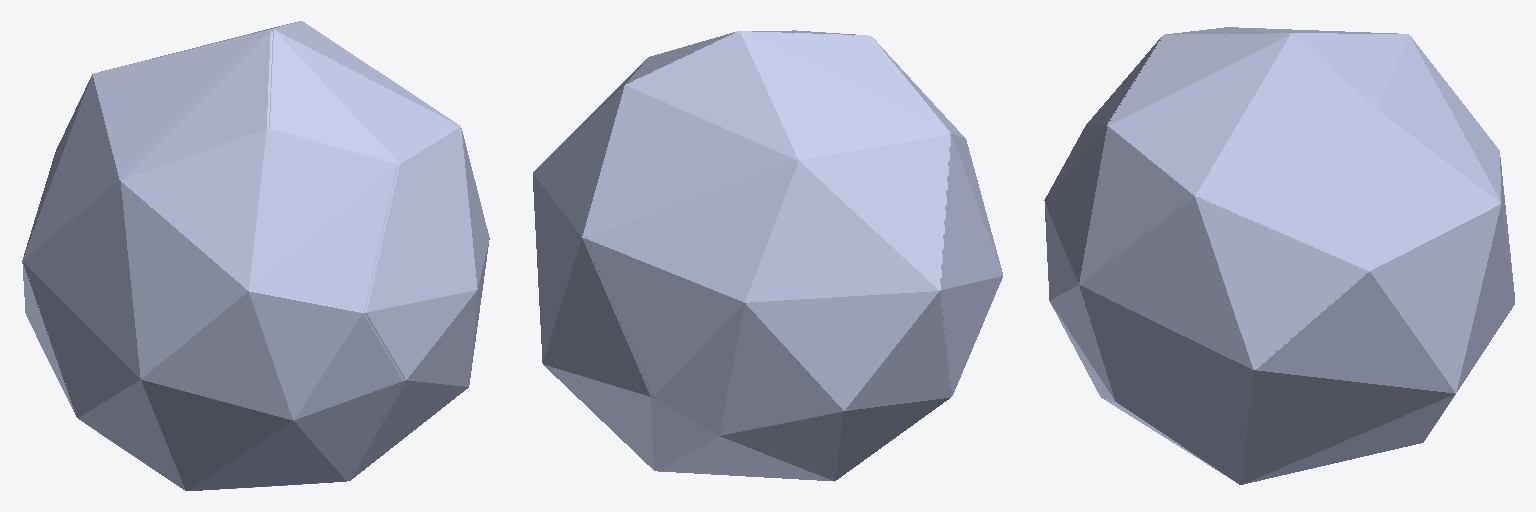
--- Facts derived from the render (not from the file) ---
3 views of the same robot in one strip: view 1: azimuth 30°, elevation 25°; view 2: azimuth 150°, elevation 25°; view 3: azimuth 270°, elevation 25° (orthographic).
Model husky with 25 links and 24 joints (16 revolute, 4 continuous, 4 fixed), rooted at Body, posed all joints at 0.
Links seen in each view (by area): view 1: foot_end_rr, foot_end_fr, foot_end_rl; view 2: foot_end_rl, foot_end_fl, foot_end_rr, foot_end_fr; view 3: foot_end_fr, foot_end_fl, foot_end_rl, foot_end_rr.
Link boxes in pixels (x1,y1,x2,y2): foot_end_rr: (23,30,403,490); foot_end_fr: (269,21,489,480); foot_end_rl: (22,23,290,416); foot_end_rl: (585,33,951,481); foot_end_fl: (533,32,795,470); foot_end_rr: (740,32,1002,395); foot_end_fr: (627,30,868,83); foot_end_fr: (1045,35,1375,484); foot_end_fl: (1197,35,1514,484); foot_end_rl: (1232,27,1514,294); foot_end_rr: (1044,27,1291,200).
Bounding box of the posed robot: 52.72 × 51.1 × 53.01 m (x, y, z).
Meshes: 22 distinct files referenced, 25 mesh visuals loaded (22 binary STL).

robot.urdf — husky:
<?xml version="1.0" encoding="utf-8"?>
<!-- This URDF was automatically created by SolidWorks to URDF Exporter! Originally created by Stephen Brawner ([email redacted]) 
     Commit Version: 1.5.1-0-g916b5db  Build Version: 1.5.7152.31018
     For more information, please see http://wiki.ros.org/sw_urdf_sporter -->
<robot
  name="husky">
  <link
    name="Body">
    <inertial>
      <origin
        xyz="0.0211071592923378 0 -0.0415232736197185"
        rpy="0 0 0" />
      <mass
        value="0.82234829634822" />
      <inertia
        ixx="0.000459915991926448"
        ixy="8.15944830666836E-13"
        ixz="1.96417515898066E-05"
        iyy="0.000544483864173317"
        iyz="3.07545900066903E-08"
        izz="0.000323732011489045" />
    </inertial>
    <visual>
      <origin
        xyz="0 0 0"
        rpy="0 0 0" />
      <geometry>
        <mesh
          filename="package://husky/meshes/Body.STL" />
      </geometry>
      <material
        name="">
        <color
          rgba="0.792156862745098 0.819607843137255 0.933333333333333 1" />
      </material>
    </visual>
    <collision>
      <origin
        xyz="0 0 0"
        rpy="0 0 0" />
      <geometry>
        <mesh
          filename="package://husky/meshes/Body.STL" />
      </geometry>
    </collision>
  </link>
  <link
    name="hip_rl">
    <inertial>
      <origin
        xyz="-0.004454141 0.02824932 0"
        rpy="0 0 0" />
      <mass
        value="0.0359443182305763" />
      <inertia
        ixx="2.70762134663166E-05"
        ixy="2.3931924096827E-06"
        ixz="5.09943156182198E-09"
        iyy="9.43684872810118E-06"
        iyz="-7.37841303905059E-08"
        izz="2.44222433424521E-05" />
    </inertial>
    <visual>
      <origin
        xyz="0 0 0"
        rpy="0 0 0" />
      <geometry>
        <mesh
          filename="package://husky/meshes/hip_rl.STL" />
      </geometry>
      <material
        name="">
        <color
          rgba="0.792156862745098 0.819607843137255 0.933333333333333 1" />
      </material>
    </visual>
    <collision>
      <origin
        xyz="0 0 0"
        rpy="0 0 0" />
      <geometry>
        <mesh
          filename="package://husky/meshes/hip_rl.STL" />
      </geometry>
    </collision>
  </link>
  <joint
    name="hip_rl_f"
    type="revolute">
    <origin
      xyz="-0.19745 0.045 0"
      rpy="0 0 0" />
    <parent
      link="Body" />
    <child
      link="hip_rl" />
    <axis
      xyz="1 0 0" />
    <limit
      lower="-3.14"
      upper="3.14"
      effort="1000"
      velocity="1000" />
  </joint>
  <link
    name="femur_rl">
    <inertial>
      <origin
        xyz="0 0.0361117637 -0.08282914"
        rpy="0 0 0" />
      <mass
        value="0.152097608878586" />
      <inertia
        ixx="4.39271248910885E-05"
        ixy="6.91552814530331E-10"
        ixz="-1.83185228614627E-08"
        iyy="6.21094780413375E-05"
        iyz="4.58760753059716E-10"
        izz="2.75629448518317E-05" />
    </inertial>
    <visual>
      <origin
        xyz="0 0 0"
        rpy="0 0 0" />
      <geometry>
        <mesh
          filename="package://husky/meshes/femur_rl.STL" />
      </geometry>
      <material
        name="">
        <color
          rgba="0.792156862745098 0.819607843137255 0.933333333333333 1" />
      </material>
    </visual>
    <collision>
      <origin
        xyz="0 0 0"
        rpy="0 0 0" />
      <geometry>
        <mesh
          filename="package://husky/meshes/femur_rl.STL" />
      </geometry>
    </collision>
  </link>
  <joint
    name="hip_rl_s"
    type="revolute">
    <origin
      xyz="-0.007 0.053 0"
      rpy="0 0 0" />
    <parent
      link="hip_rl" />
    <child
      link="femur_rl" />
    <axis
      xyz="0 1 0" />
    <limit
      lower="-3.14"
      upper="3.14"
      effort="1000"
      velocity="1000" />
  </joint>
  <link
    name="tibia_rl">
    <inertial>
      <origin
        xyz="-0.1057537 0.003983084 0"
        rpy="0 0 0" />
      <mass
        value="0.0386281065299358" />
      <inertia
        ixx="7.12522465859726E-06"
        ixy="1.09307273712402E-06"
        ixz="-8.00478110520346E-10"
        iyy="3.48397210023154E-05"
        iyz="-1.63865062956288E-09"
        izz="2.98656007512978E-05" />
    </inertial>
    <visual>
      <origin
        xyz="0 0 0"
        rpy="0 0 0" />
      <geometry>
        <mesh
          filename="package://husky/meshes/tibia_rl.STL" />
      </geometry>
      <material
        name="">
        <color
          rgba="0.792156862745098 0.819607843137255 0.933333333333333 1" />
      </material>
    </visual>
    <collision>
      <origin
        xyz="0 0 0"
        rpy="0 0 0" />
      <geometry>
        <mesh
          filename="package://husky/meshes/tibia_rl.STL" />
      </geometry>
    </collision>
  </link>
  <joint
    name="knee_rl"
    type="revolute">
    <origin
      xyz="0 0 -0.158"
      rpy="0 0 0" />
    <parent
      link="femur_rl" />
    <child
      link="tibia_rl" />
    <axis
      xyz="0 1 0" />
    <limit
      lower="-3.14"
      upper="3.14"
      effort="1000"
      velocity="1000" />
  </joint>
  <link
    name="tarsus_rl">
    <inertial>
      <origin
        xyz="0 0 -0.054555"
        rpy="0 0 0" />
      <mass
        value="0.182843362911726" />
      <inertia
        ixx="0.000120755566797708"
        ixy="-8.51394103095551E-12"
        ixz="-6.94776948529209E-13"
        iyy="0.000116988513204247"
        iyz="3.77436628974131E-12"
        izz="2.51325482776806E-05" />
    </inertial>
    <visual>
      <origin
        xyz="0 0 0"
        rpy="0 0 0" />
      <geometry>
        <mesh
          filename="package://husky/meshes/tarsus_rl.STL" />
      </geometry>
      <material
        name="">
        <color
          rgba="0.792156862745098 0.819607843137255 0.933333333333333 1" />
      </material>
    </visual>
    <collision>
      <origin
        xyz="0 0 0"
        rpy="0 0 0" />
      <geometry>
        <mesh
          filename="package://husky/meshes/tarsus_rl.STL" />
      </geometry>
    </collision>
  </link>
  <joint
    name="ankle_rl"
    type="revolute">
    <origin
      xyz="-0.333 0.0075 0"
      rpy="0 0 0" />
    <parent
      link="tibia_rl" />
    <child
      link="tarsus_rl" />
    <axis
      xyz="0 1 0" />
    <limit
      lower="-3.14"
      upper="3.14"
      effort="1000"
      velocity="1000" />
  </joint>
  <link
    name="link_rl">
    <inertial>
      <origin
        xyz="0.15598 0 0"
        rpy="0 0 0" />
      <mass
        value="0.022231885605909" />
      <inertia
        ixx="9.87556052587583E-07"
        ixy="3.81108638889871E-08"
        ixz="-1.25113408522424E-13"
        iyy="2.53724963631523E-05"
        iyz="-2.76558475727964E-14"
        izz="2.49180597934993E-05" />
    </inertial>
    <visual>
      <origin
        xyz="0 0 0"
        rpy="0 0 0" />
      <geometry>
        <mesh
          filename="package://husky/meshes/link_rl.STL" />
      </geometry>
      <material
        name="">
        <color
          rgba="0.792156862745098 0.819607843137255 0.933333333333333 1" />
      </material>
    </visual>
    <collision>
      <origin
        xyz="0 0 0"
        rpy="0 0 0" />
      <geometry>
        <mesh
          filename="package://husky/meshes/link_rl.STL" />
      </geometry>
    </collision>
  </link>
  <joint
    name="link_rl"
    type="continuous">
    <origin
      xyz="0 0 0.06"
      rpy="0 0 0" />
    <parent
      link="tarsus_rl" />
    <child
      link="link_rl" />
    <axis
      xyz="0 1 0" />
  </joint>
<link
    name="foot_end_rl">
	<inertial>
      <origin
        xyz="0 0 0"
        rpy="0 0 0" />
      <mass
        value="0.0001" />
	<inertia
        ixx="0"
        ixy="0"
        ixz="0"
        iyy="0"
        iyz="0"
        izz="0" />
	</inertial>
    <visual>
      <origin
        xyz="0 0 0"
        rpy="0 0 0" />
      <geometry>
        <mesh
          filename="package://husky/meshes/footend.STL" />
      </geometry>
      <material
        name="">
        <color
          rgba="0.792156862745098 0.819607843137255 0.933333333333333 1" />
      </material>
    </visual>
</link>
  <joint
    name="end_rl"
    type="fixed">
    <origin
      xyz="0 0 -0.12"
      rpy="0 0 0" />
    <parent
      link="tarsus_rl" />
    <child
      link="foot_end_rl" />
  </joint>
  <link
    name="hip_rr">
    <inertial>
      <origin
        xyz="-0.004454141 -0.02824932 0"
        rpy="0 0 0" />
      <mass
        value="0.0359443183140278" />
      <inertia
        ixx="2.70762137070002E-05"
        ixy="-2.39319246374955E-06"
        ixz="-5.09946868769336E-09"
        iyy="9.43684882222105E-06"
        iyz="-7.37842997255125E-08"
        izz="2.4422243349908E-05" />
    </inertial>
    <visual>
      <origin
        xyz="0 0 0"
        rpy="0 0 0" />
      <geometry>
        <mesh
          filename="package://husky/meshes/hip_rr.STL" />
      </geometry>
      <material
        name="">
        <color
          rgba="0.792156862745098 0.819607843137255 0.933333333333333 1" />
      </material>
    </visual>
    <collision>
      <origin
        xyz="0 0 0"
        rpy="0 0 0" />
      <geometry>
        <mesh
          filename="package://husky/meshes/hip_rr.STL" />
      </geometry>
    </collision>
  </link>
  <joint
    name="hip_rr_f"
    type="revolute">
    <origin
      xyz="-0.19745 -0.045 0"
      rpy="0 0 0" />
    <parent
      link="Body" />
    <child
      link="hip_rr" />
    <axis
      xyz="1 0 0" />
    <limit
      lower="-3.14"
      upper="3.14"
      effort="1000"
      velocity="1000" />
  </joint>
  <link
    name="femur_rr">
    <inertial>
      <origin
        xyz="0 -0.0361117637 -0.08282914"
        rpy="0 0 0" />
      <mass
        value="0.152097608703823" />
      <inertia
        ixx="4.39271248513547E-05"
        ixy="6.91543149797179E-10"
        ixz="1.83187127044182E-08"
        iyy="6.21094779218342E-05"
        iyz="-4.58777022902181E-10"
        izz="2.75629447730204E-05" />
    </inertial>
    <visual>
      <origin
        xyz="0 0 0"
        rpy="0 0 0" />
      <geometry>
        <mesh
          filename="package://husky/meshes/femur_rr.STL" />
      </geometry>
      <material
        name="">
        <color
          rgba="0.792156862745098 0.819607843137255 0.933333333333333 1" />
      </material>
    </visual>
    <collision>
      <origin
        xyz="0 0 0"
        rpy="0 0 0" />
      <geometry>
        <mesh
          filename="package://husky/meshes/femur_rr.STL" />
      </geometry>
    </collision>
  </link>
  <joint
    name="hip_rr_s"
    type="revolute">
    <origin
      xyz="-0.007 -0.053 0"
      rpy="0 0 0" />
    <parent
      link="hip_rr" />
    <child
      link="femur_rr" />
    <axis
      xyz="0 1 0" />
    <limit
      lower="-3.14"
      upper="3.14"
      effort="1000"
      velocity="1000" />
  </joint>
  <link
    name="tibia_rr">
    <inertial>
      <origin
        xyz="-0.1057537 -0.003983084 0"
        rpy="0 0 0" />
      <mass
        value="0.0386281062345205" />
      <inertia
        ixx="7.1252246351902E-06"
        ixy="-1.09307271506804E-06"
        ixz="8.00472745726573E-10"
        iyy="3.48397208700752E-05"
        iyz="-1.63864675282453E-09"
        izz="2.98656006318311E-05" />
    </inertial>
    <visual>
      <origin
        xyz="0 0 0"
        rpy="0 0 0" />
      <geometry>
        <mesh
          filename="package://husky/meshes/tibia_rr.STL" />
      </geometry>
      <material
        name="">
        <color
          rgba="0.792156862745098 0.819607843137255 0.933333333333333 1" />
      </material>
    </visual>
    <collision>
      <origin
        xyz="0 0 0"
        rpy="0 0 0" />
      <geometry>
        <mesh
          filename="package://husky/meshes/tibia_rr.STL" />
      </geometry>
    </collision>
  </link>
  <joint
    name="knee_rr"
    type="revolute">
    <origin
      xyz="0 0 -0.158"
      rpy="0 0 0" />
    <parent
      link="femur_rr" />
    <child
      link="tibia_rr" />
    <axis
      xyz="0 1 0" />
    <limit
      lower="-3.14"
      upper="3.14"
      effort="1000"
      velocity="1000" />
  </joint>
  <link
    name="tarsus_rr">
    <inertial>
      <origin
        xyz="0 0 -0.054555"
        rpy="0 0 0" />
      <mass
        value="0.182843362911726" />
      <inertia
        ixx="0.000120755566797708"
        ixy="-8.51394103298896E-12"
        ixz="6.94777500870091E-13"
        iyy="0.000116988513204247"
        iyz="-3.77436541860114E-12"
        izz="2.51325482776806E-05" />
    </inertial>
    <visual>
      <origin
        xyz="0 0 0"
        rpy="0 0 0" />
      <geometry>
        <mesh
          filename="package://husky/meshes/tarsus_rr.STL" />
      </geometry>
      <material
        name="">
        <color
          rgba="0.792156862745098 0.819607843137255 0.933333333333333 1" />
      </material>
    </visual>
    <collision>
      <origin
        xyz="0 0 0"
        rpy="0 0 0" />
      <geometry>
        <mesh
          filename="package://husky/meshes/tarsus_rr.STL" />
      </geometry>
    </collision>
  </link>
  <joint
    name="ankle_rr"
    type="revolute">
    <origin
      xyz="-0.333 -0.0075 0"
      rpy="0 0 0" />
    <parent
      link="tibia_rr" />
    <child
      link="tarsus_rr" />
    <axis
      xyz="0 1 0" />
    <limit
      lower="-3.14"
      upper="3.14"
      effort="1000"
      velocity="1000" />
  </joint>
  <link
    name="link_rr">
    <inertial>
      <origin
        xyz="0.15598 0 0"
        rpy="0 0 0" />
      <mass
        value="0.0222318856387224" />
      <inertia
        ixx="9.87556053074512E-07"
        ixy="-3.81108638891084E-08"
        ixz="1.25321029989709E-13"
        iyy="2.53724963632346E-05"
        iyz="-2.74003733997187E-14"
        izz="2.4918059793518E-05" />
    </inertial>
    <visual>
      <origin
        xyz="0 0 0"
        rpy="0 0 0" />
      <geometry>
        <mesh
          filename="package://husky/meshes/link_rr.STL" />
      </geometry>
      <material
        name="">
        <color
          rgba="0.792156862745098 0.819607843137255 0.933333333333333 1" />
      </material>
    </visual>
    <collision>
      <origin
        xyz="0 0 0"
        rpy="0 0 0" />
      <geometry>
        <mesh
          filename="package://husky/meshes/link_rr.STL" />
      </geometry>
    </collision>
  </link>
  <joint
    name="link_rr"
    type="continuous">
    <origin
      xyz="0 0 0.06"
      rpy="0 0 0" />
    <parent
      link="tarsus_rr" />
    <child
      link="link_rr" />
    <axis
      xyz="0 1 0" />
  </joint>
<link
    name="foot_end_rr">
	<inertial>
      <origin
        xyz="0 0 0"
        rpy="0 0 0" />
      <mass
        value="0.0001" />
	<inertia
        ixx="0"
        ixy="0"
        ixz="0"
        iyy="0"
        iyz="0"
        izz="0" />
	</inertial>
    <visual>
      <origin
        xyz="0 0 0"
        rpy="0 0 0" />
      <geometry>
        <mesh
          filename="package://husky/meshes/footend.STL" />
      </geometry>
      <material
        name="">
        <color
          rgba="0.792156862745098 0.819607843137255 0.933333333333333 1" />
      </material>
    </visual>
</link>
  <joint
    name="end_rr"
    type="fixed">
    <origin
      xyz="0 0 -0.12"
      rpy="0 0 0" />
    <parent
      link="tarsus_rr" />
    <child
      link="foot_end_rr" />
  </joint>
  <link
    name="hip_fl">
    <inertial>
      <origin
        xyz="-0.004454141 0.02824932 0"
        rpy="0 0 0" />
      <mass
        value="0.0359443185115185" />
      <inertia
        ixx="2.70762138492206E-05"
        ixy="2.39319249507143E-06"
        ixz="5.09944659882223E-09"
        iyy="9.43684894485697E-06"
        iyz="-7.37842386043371E-08"
        izz="2.44222434072564E-05" />
    </inertial>
    <visual>
      <origin
        xyz="0 0 0"
        rpy="0 0 0" />
      <geometry>
        <mesh
          filename="package://husky/meshes/hip_fl.STL" />
      </geometry>
      <material
        name="">
        <color
          rgba="0.792156862745098 0.819607843137255 0.933333333333333 1" />
      </material>
    </visual>
    <collision>
      <origin
        xyz="0 0 0"
        rpy="0 0 0" />
      <geometry>
        <mesh
          filename="package://husky/meshes/hip_fl.STL" />
      </geometry>
    </collision>
  </link>
  <joint
    name="hip_fl_f"
    type="revolute">
    <origin
      xyz="0.19745 0.045 0"
      rpy="0 0 0" />
    <parent
      link="Body" />
    <child
      link="hip_fl" />
    <axis
      xyz="1 0 0" />
    <limit
      lower="-3.14"
      upper="3.14"
      effort="1000"
      velocity="1000" />
  </joint>
  <link
    name="femur_fl">
    <inertial>
      <origin
        xyz="0 0.0361117637 -0.08282914"
        rpy="0 0 0" />
      <mass
        value="0.152097609273322" />
      <inertia
        ixx="4.39271251028734E-05"
        ixy="6.91540064901458E-10"
        ixz="-1.83184904386034E-08"
        iyy="6.21094782699363E-05"
        iyz="4.58746027892432E-10"
        izz="2.75629448679641E-05" />
    </inertial>
    <visual>
      <origin
        xyz="0 0 0"
        rpy="0 0 0" />
      <geometry>
        <mesh
          filename="package://husky/meshes/femur_fl.STL" />
      </geometry>
      <material
        name="">
        <color
          rgba="0.792156862745098 0.819607843137255 0.933333333333333 1" />
      </material>
    </visual>
    <collision>
      <origin
        xyz="0 0 0"
        rpy="0 0 0" />
      <geometry>
        <mesh
          filename="package://husky/meshes/femur_fl.STL" />
      </geometry>
    </collision>
  </link>
  <joint
    name="hip_fl_s"
    type="revolute">
    <origin
      xyz="-0.007 0.053 0"
      rpy="0 0 0" />
    <parent
      link="hip_fl" />
    <child
      link="femur_fl" />
    <axis
      xyz="0 1 0" />
    <limit
      lower="-3.14"
      upper="3.14"
      effort="1000"
      velocity="1000" />
  </joint>
  <link
    name="tibia_fl">
    <inertial>
      <origin
        xyz="-0.1057537 0.003983084 0"
        rpy="0 0 0" />
      <mass
        value="0.0386281076645603" />
      <inertia
        ixx="7.12522522586293E-06"
        ixy="1.0930728048501E-06"
        ixz="-8.00870067195263E-10"
        iyy="3.4839722028018E-05"
        iyz="-1.6386268554641E-09"
        izz="2.98656012518756E-05" />
    </inertial>
    <visual>
      <origin
        xyz="0 0 0"
        rpy="0 0 0" />
      <geometry>
        <mesh
          filename="package://husky/meshes/tibia_fl.STL" />
      </geometry>
      <material
        name="">
        <color
          rgba="0.792156862745098 0.819607843137255 0.933333333333333 1" />
      </material>
    </visual>
    <collision>
      <origin
        xyz="0 0 0"
        rpy="0 0 0" />
      <geometry>
        <mesh
          filename="package://husky/meshes/tibia_fl.STL" />
      </geometry>
    </collision>
  </link>
  <joint
    name="knee_fl"
    type="revolute">
    <origin
      xyz="0 0 -0.158"
      rpy="0 0 0" />
    <parent
      link="femur_fl" />
    <child
      link="tibia_fl" />
    <axis
      xyz="0 1 0" />
    <limit
      lower="-3.14"
      upper="3.14"
      effort="1000"
      velocity="1000" />
  </joint>
  <link
    name="tarsus_fl">
    <inertial>
      <origin
        xyz="0 0 -0.054555"
        rpy="0 0 0" />
      <mass
        value="0.182843362911726" />
      <inertia
        ixx="0.000120755566797708"
        ixy="-8.51394104017069E-12"
        ixz="6.94777373490634E-13"
        iyy="0.000116988513204247"
        iyz="-3.77436543268781E-12"
        izz="2.51325482776806E-05" />
    </inertial>
    <visual>
      <origin
        xyz="0 0 0"
        rpy="0 0 0" />
      <geometry>
        <mesh
          filename="package://husky/meshes/tarsus_fl.STL" />
      </geometry>
      <material
        name="">
        <color
          rgba="0.792156862745098 0.819607843137255 0.933333333333333 1" />
      </material>
    </visual>
    <collision>
      <origin
        xyz="0 0 0"
        rpy="0 0 0" />
      <geometry>
        <mesh
          filename="package://husky/meshes/tarsus_fl.STL" />
      </geometry>
    </collision>
  </link>
  <joint
    name="ankle_fl"
    type="revolute">
    <origin
      xyz="-0.333 0.0075 0"
      rpy="0 0 0" />
    <parent
      link="tibia_fl" />
    <child
      link="tarsus_fl" />
    <axis
      xyz="0 1 0" />
    <limit
      lower="-3.14"
      upper="3.14"
      effort="1000"
      velocity="1000" />
  </joint>
  <link
    name="link_fl">
    <inertial>
      <origin
        xyz="0.15598 0 0"
        rpy="0 0 0" />
      <mass
        value="0.0222318856059" />
      <inertia
        ixx="9.87556052587465E-07"
        ixy="3.81108638889694E-08"
        ixz="-1.25321108906669E-13"
        iyy="2.53724963631525E-05"
        iyz="-2.76554512146632E-14"
        izz="2.49180597934994E-05" />
    </inertial>
    <visual>
      <origin
        xyz="0 0 0"
        rpy="0 0 0" />
      <geometry>
        <mesh
          filename="package://husky/meshes/link_fl.STL" />
      </geometry>
      <material
        name="">
        <color
          rgba="0.792156862745098 0.819607843137255 0.933333333333333 1" />
      </material>
    </visual>
    <collision>
      <origin
        xyz="0 0 0"
        rpy="0 0 0" />
      <geometry>
        <mesh
          filename="package://husky/meshes/link_fl.STL" />
      </geometry>
    </collision>
  </link>
  <joint
    name="link_fl"
    type="continuous">
    <origin
      xyz="0 0 0.06"
      rpy="0 0 0" />
    <parent
      link="tarsus_fl" />
    <child
      link="link_fl" />
    <axis
      xyz="0 1 0" />
  </joint>
<link
    name="foot_end_fl">
	<inertial>
      <origin
        xyz="0 0 0"
        rpy="0 0 0" />
      <mass
        value="0.0001" />
	<inertia
        ixx="0"
        ixy="0"
        ixz="0"
        iyy="0"
        iyz="0"
        izz="0" />
	</inertial>
    <visual>
      <origin
        xyz="0 0 0"
        rpy="0 0 0" />
      <geometry>
        <mesh
          filename="package://husky/meshes/footend.STL" />
      </geometry>
      <material
        name="">
        <color
          rgba="0.792156862745098 0.819607843137255 0.933333333333333 1" />
      </material>
    </visual>
</link>
  <joint
    name="end_fl"
    type="fixed">
    <origin
      xyz="0 0 -0.12"
      rpy="0 0 0" />
    <parent
      link="tarsus_fl" />
    <child
      link="foot_end_fl" />
  </joint>
  <link
    name="hip_fr">
    <inertial>
      <origin
        xyz="-0.004454141 -0.02824932 0"
        rpy="0 0 0" />
      <mass
        value="0.0359443185115185" />
      <inertia
        ixx="2.63878354499132E-05"
        ixy="-2.33234864755538E-06"
        ixz="-4.96980651907523E-09"
        iyy="9.19692903297758E-06"
        iyz="-7.19084532938084E-08"
        izz="2.380133902073E-05" />
    </inertial>
    <visual>
      <origin
        xyz="0 0 0"
        rpy="0 0 0" />
      <geometry>
        <mesh
          filename="package://husky/meshes/hip_fr.STL" />
      </geometry>
      <material
        name="">
        <color
          rgba="0.792156862745098 0.819607843137255 0.933333333333333 1" />
      </material>
    </visual>
    <collision>
      <origin
        xyz="0 0 0"
        rpy="0 0 0" />
      <geometry>
        <mesh
          filename="package://husky/meshes/hip_fr.STL" />
      </geometry>
    </collision>
  </link>
  <joint
    name="hip_fr_f"
    type="revolute">
    <origin
      xyz="0.19745 -0.045 0"
      rpy="0 0 0" />
    <parent
      link="Body" />
    <child
      link="hip_fr" />
    <axis
      xyz="1 0 0" />
    <limit
      lower="-3.14"
      upper="3.14"
      effort="1000"
      velocity="1000" />
  </joint>
  <link
    name="femur_fr">
    <inertial>
      <origin
        xyz="0 -0.0361117637 -0.08282914"
        rpy="0 0 0" />
      <mass
        value="0.152097609273322" />
      <inertia
        ixx="0.000118603237038913"
        ixy="1.86717159202298E-09"
        ixz="4.94602319659715E-08"
        iyy="0.000167695590354466"
        iyz="-1.23869461907944E-09"
        izz="7.44199509171748E-05" />
    </inertial>
    <visual>
      <origin
        xyz="0 0 0"
        rpy="0 0 0" />
      <geometry>
        <mesh
          filename="package://husky/meshes/femur_fr.STL" />
      </geometry>
      <material
        name="">
        <color
          rgba="0.792156862745098 0.819607843137255 0.933333333333333 1" />
      </material>
    </visual>
    <collision>
      <origin
        xyz="0 0 0"
        rpy="0 0 0" />
      <geometry>
        <mesh
          filename="package://husky/meshes/femur_fr.STL" />
      </geometry>
    </collision>
  </link>
  <joint
    name="hip_fr_s"
    type="revolute">
    <origin
      xyz="-0.007 -0.053 0"
      rpy="0 0 0" />
    <parent
      link="hip_fr" />
    <child
      link="femur_fr" />
    <axis
      xyz="0 1 0" />
    <limit
      lower="-3.14"
      upper="3.14"
      effort="1000"
      velocity="1000" />
  </joint>
  <link
    name="tibia_fr">
    <inertial>
      <origin
        xyz="-0.1057537 -0.003983084 0"
        rpy="0 0 0" />
      <mass
        value="0.0386281075081418" />
      <inertia
        ixx="7.12522516584858E-06"
        ixy="-1.09307276882746E-06"
        ixz="8.00928595508665E-10"
        iyy="3.48397219114748E-05"
        iyz="-1.63860403815178E-09"
        izz="2.98656011686537E-05" />
    </inertial>
    <visual>
      <origin
        xyz="0 0 0"
        rpy="0 0 0" />
      <geometry>
        <mesh
          filename="package://husky/meshes/tibia_fr.STL" />
      </geometry>
      <material
        name="">
        <color
          rgba="0.792156862745098 0.819607843137255 0.933333333333333 1" />
      </material>
    </visual>
    <collision>
      <origin
        xyz="0 0 0"
        rpy="0 0 0" />
      <geometry>
        <mesh
          filename="package://husky/meshes/tibia_fr.STL" />
      </geometry>
    </collision>
  </link>
  <joint
    name="knee_fr"
    type="revolute">
    <origin
      xyz="0 0 -0.158"
      rpy="0 0 0" />
    <parent
      link="femur_fr" />
    <child
      link="tibia_fr" />
    <axis
      xyz="0 1 0" />
    <limit
      lower="-3.14"
      upper="3.14"
      effort="1000"
      velocity="1000" />
  </joint>
  <link
    name="tarsus_fr">
    <inertial>
      <origin
        xyz="0 0 -0.054555"
        rpy="0 0 0" />
      <mass
        value="0.182843362911727" />
      <inertia
        ixx="0.000120755566797709"
        ixy="-8.51394103341617E-12"
        ixz="-6.94776949111306E-13"
        iyy="0.000116988513204248"
        iyz="3.7743664336136E-12"
        izz="2.51325482776806E-05" />
    </inertial>
    <visual>
      <origin
        xyz="0 0 0"
        rpy="0 0 0" />
      <geometry>
        <mesh
          filename="package://husky/meshes/tarsus_fr.STL" />
      </geometry>
      <material
        name="">
        <color
          rgba="0.792156862745098 0.819607843137255 0.933333333333333 1" />
      </material>
    </visual>
    <collision>
      <origin
        xyz="0 0 0"
        rpy="0 0 0" />
      <geometry>
        <mesh
          filename="package://husky/meshes/tarsus_fr.STL" />
      </geometry>
    </collision>
  </link>
  <joint
    name="ankle_fr"
    type="revolute">
    <origin
      xyz="-0.333 -0.0075 0"
      rpy="0 0 0" />
    <parent
      link="tibia_fr" />
    <child
      link="tarsus_fr" />
    <axis
      xyz="0 1 0" />
    <limit
      lower="-3.14"
      upper="3.14"
      effort="1000"
      velocity="1000" />
  </joint>
  <link
    name="link_fr">
    <inertial>
      <origin
        xyz="0.15598 0 0"
        rpy="0 0 0" />
      <mass
        value="0.0222318856551154" />
      <inertia
        ixx="9.8755605329094E-07"
        ixy="-3.81108639404438E-08"
        ixz="1.25007421030643E-13"
        iyy="2.5372496363353E-05"
        iyz="-2.75128843832001E-14"
        izz="2.49180597935776E-05" />
    </inertial>
    <visual>
      <origin
        xyz="0 0 0"
        rpy="0 0 0" />
      <geometry>
        <mesh
          filename="package://husky/meshes/link_fr.STL" />
      </geometry>
      <material
        name="">
        <color
          rgba="0.792156862745098 0.819607843137255 0.933333333333333 1" />
      </material>
    </visual>
    <collision>
      <origin
        xyz="0 0 0"
        rpy="0 0 0" />
      <geometry>
        <mesh
          filename="package://husky/meshes/link_fr.STL" />
      </geometry>
    </collision>
  </link>
  <joint
    name="link_fr"
    type="continuous">
    <origin
      xyz="0 0 0.06"
      rpy="0 0 0" />
    <parent
      link="tarsus_fr" />
    <child
      link="link_fr" />
    <axis
      xyz="0 1 0" />
  </joint>
<link
    name="foot_end_fr">
	<inertial>
      <origin
        xyz="0 0 0"
        rpy="0 0 0" />
      <mass
        value="0.0001" />
	<inertia
        ixx="0"
        ixy="0"
        ixz="0"
        iyy="0"
        iyz="0"
        izz="0" />
	</inertial>
    <visual>
      <origin
        xyz="0 0 0"
        rpy="0 0 0" />
      <geometry>
        <mesh
          filename="package://husky/meshes/footend.STL" />
      </geometry>
      <material
        name="">
        <color
          rgba="0.792156862745098 0.819607843137255 0.933333333333333 1" />
      </material>
    </visual>
</link>
  <joint
    name="end_fr"
    type="fixed">
    <origin
      xyz="0 0 -0.12"
      rpy="0 0 0" />
    <parent
      link="tarsus_fr" />
    <child
      link="foot_end_fr" />
  </joint>
</robot>
